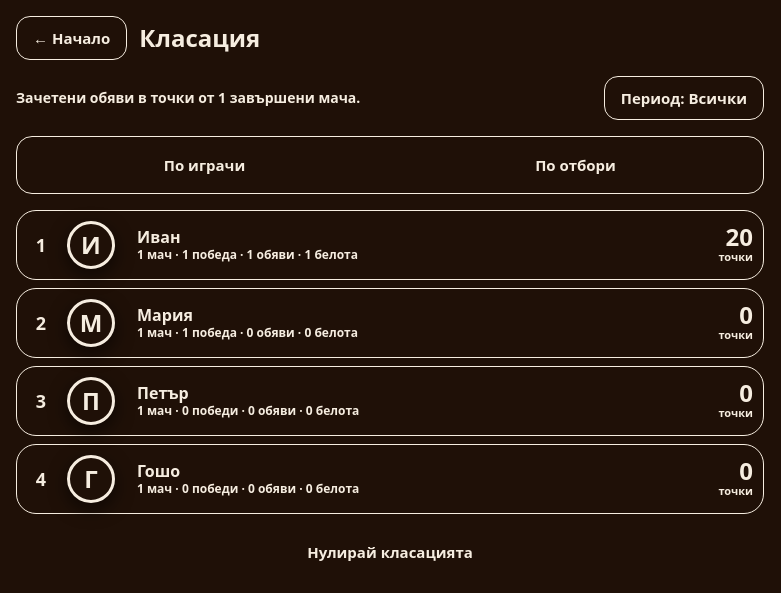
it: Leaderboard › one recorded match › arms the reset on the first press, keeping the stats
Expected: the heading "Класация" is shown, left=139, top=22, right=260, bottom=54
Click the button "Нулирай класацията" at (390, 552), box left=291, top=530, right=489, bottom=574
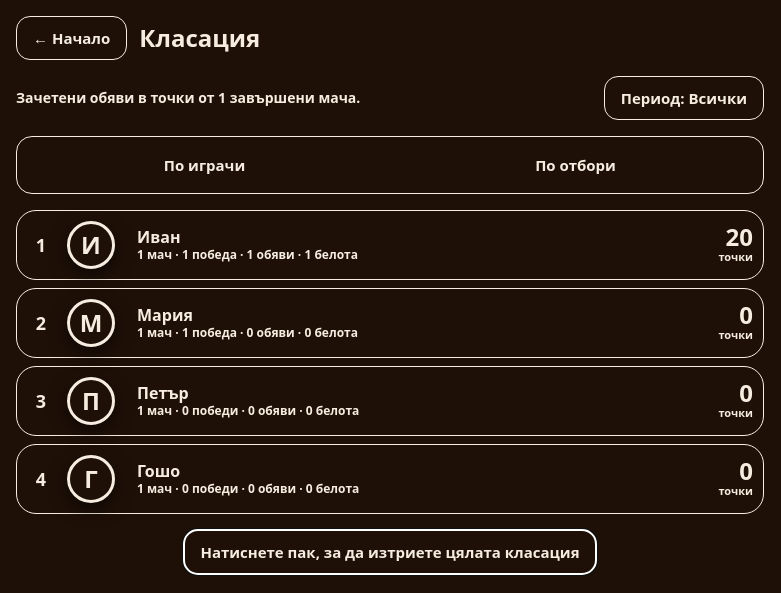
Expected: the button "Натиснете пак, за да изтриете цялата класация" is shown, left=184, top=530, right=596, bottom=574
